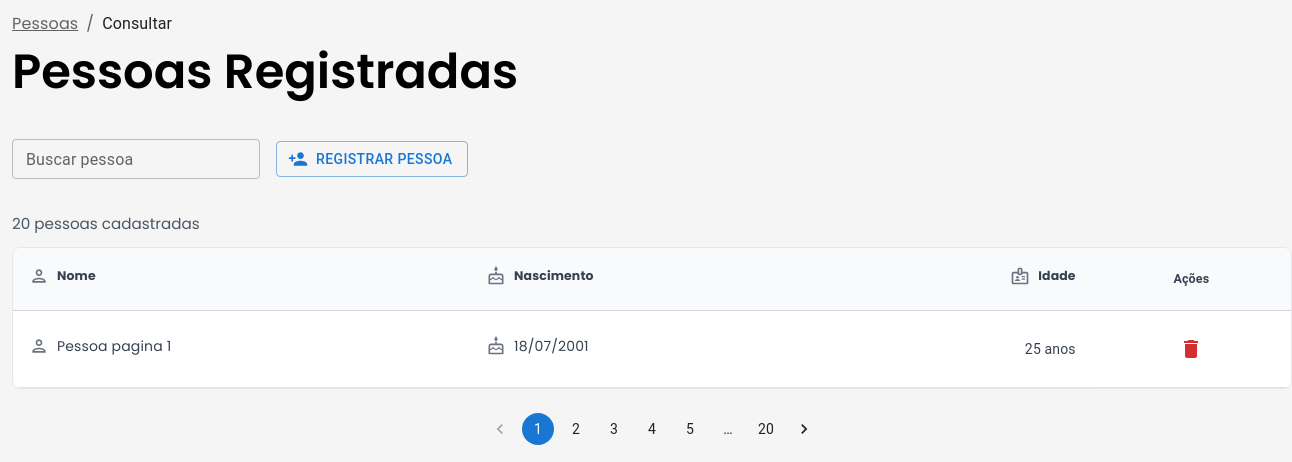
PeopleConsultPage › carrega paginas sob demanda e reaproveita cache ao voltar
Expected: the text "Pessoa pagina 1" is shown, [57,336,171,356]
Click the button "2" at [576, 429], box [560,413,592,445]
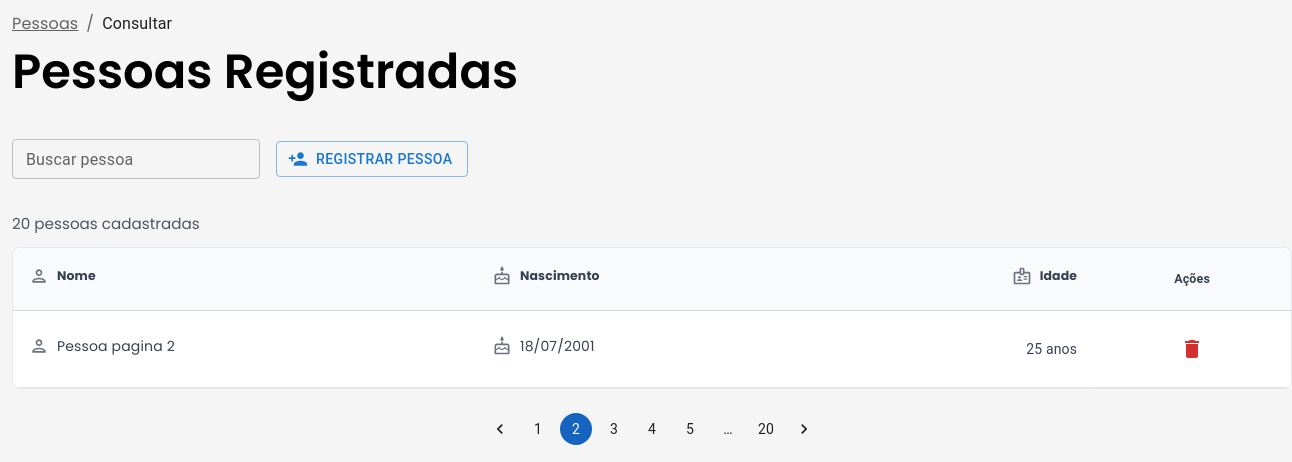
Expected: the text "Pessoa pagina 2" is shown, [57,336,175,356]
Click the button "1" at [538, 429], box [522,413,554,445]
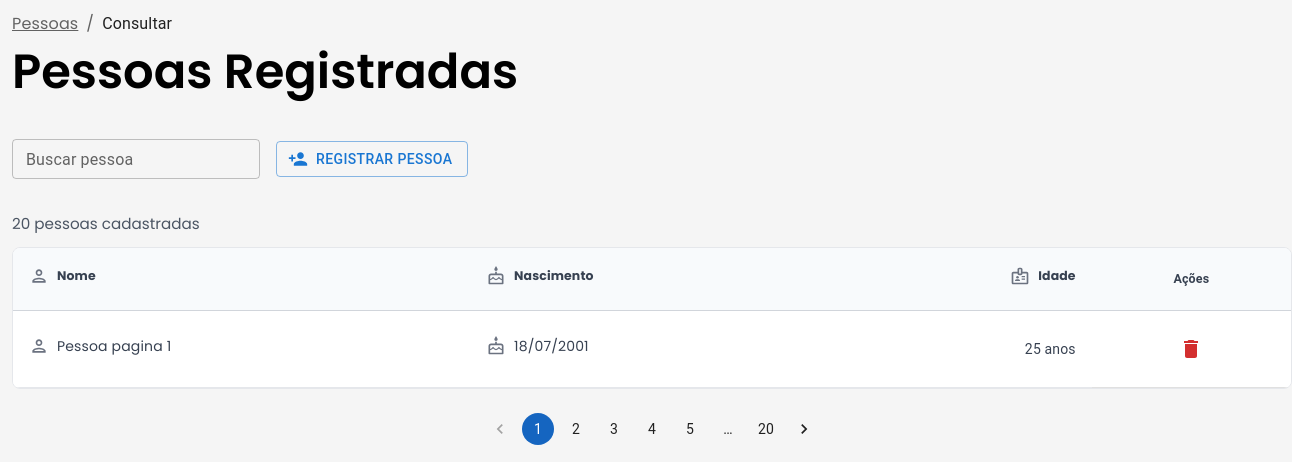
Expected: the text "Pessoa pagina 1" is shown, [57,336,171,356]
